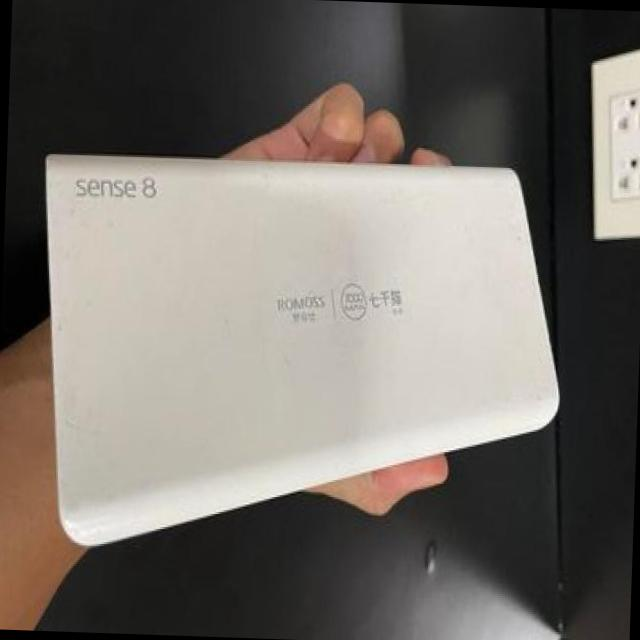power_bank: (28, 134, 570, 568)
